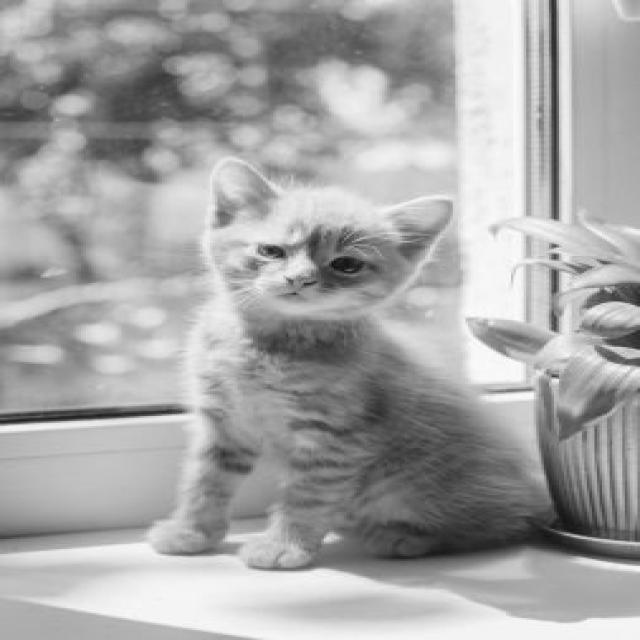Animal: (148, 159, 546, 568)
